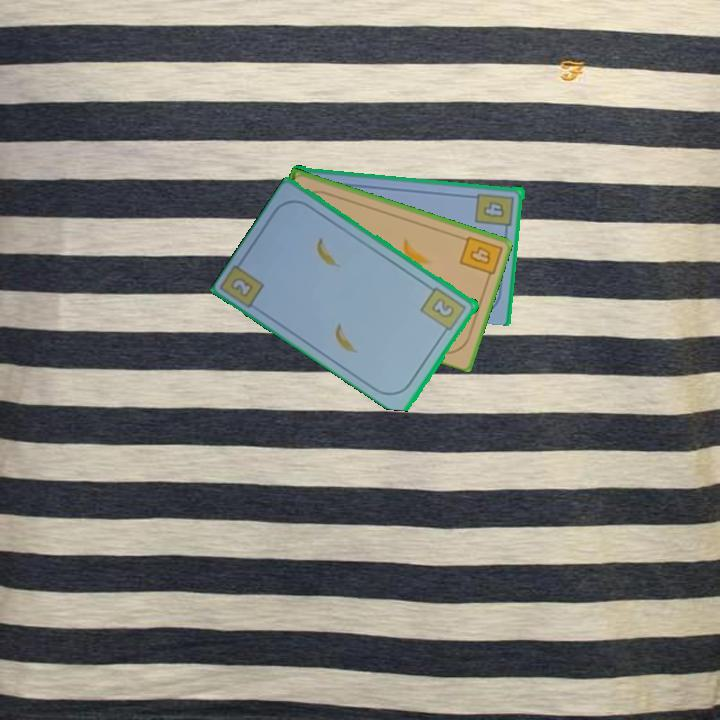2b: (418, 284, 470, 338), (227, 273, 257, 300)
4b: (456, 232, 504, 283), (473, 189, 517, 234)
